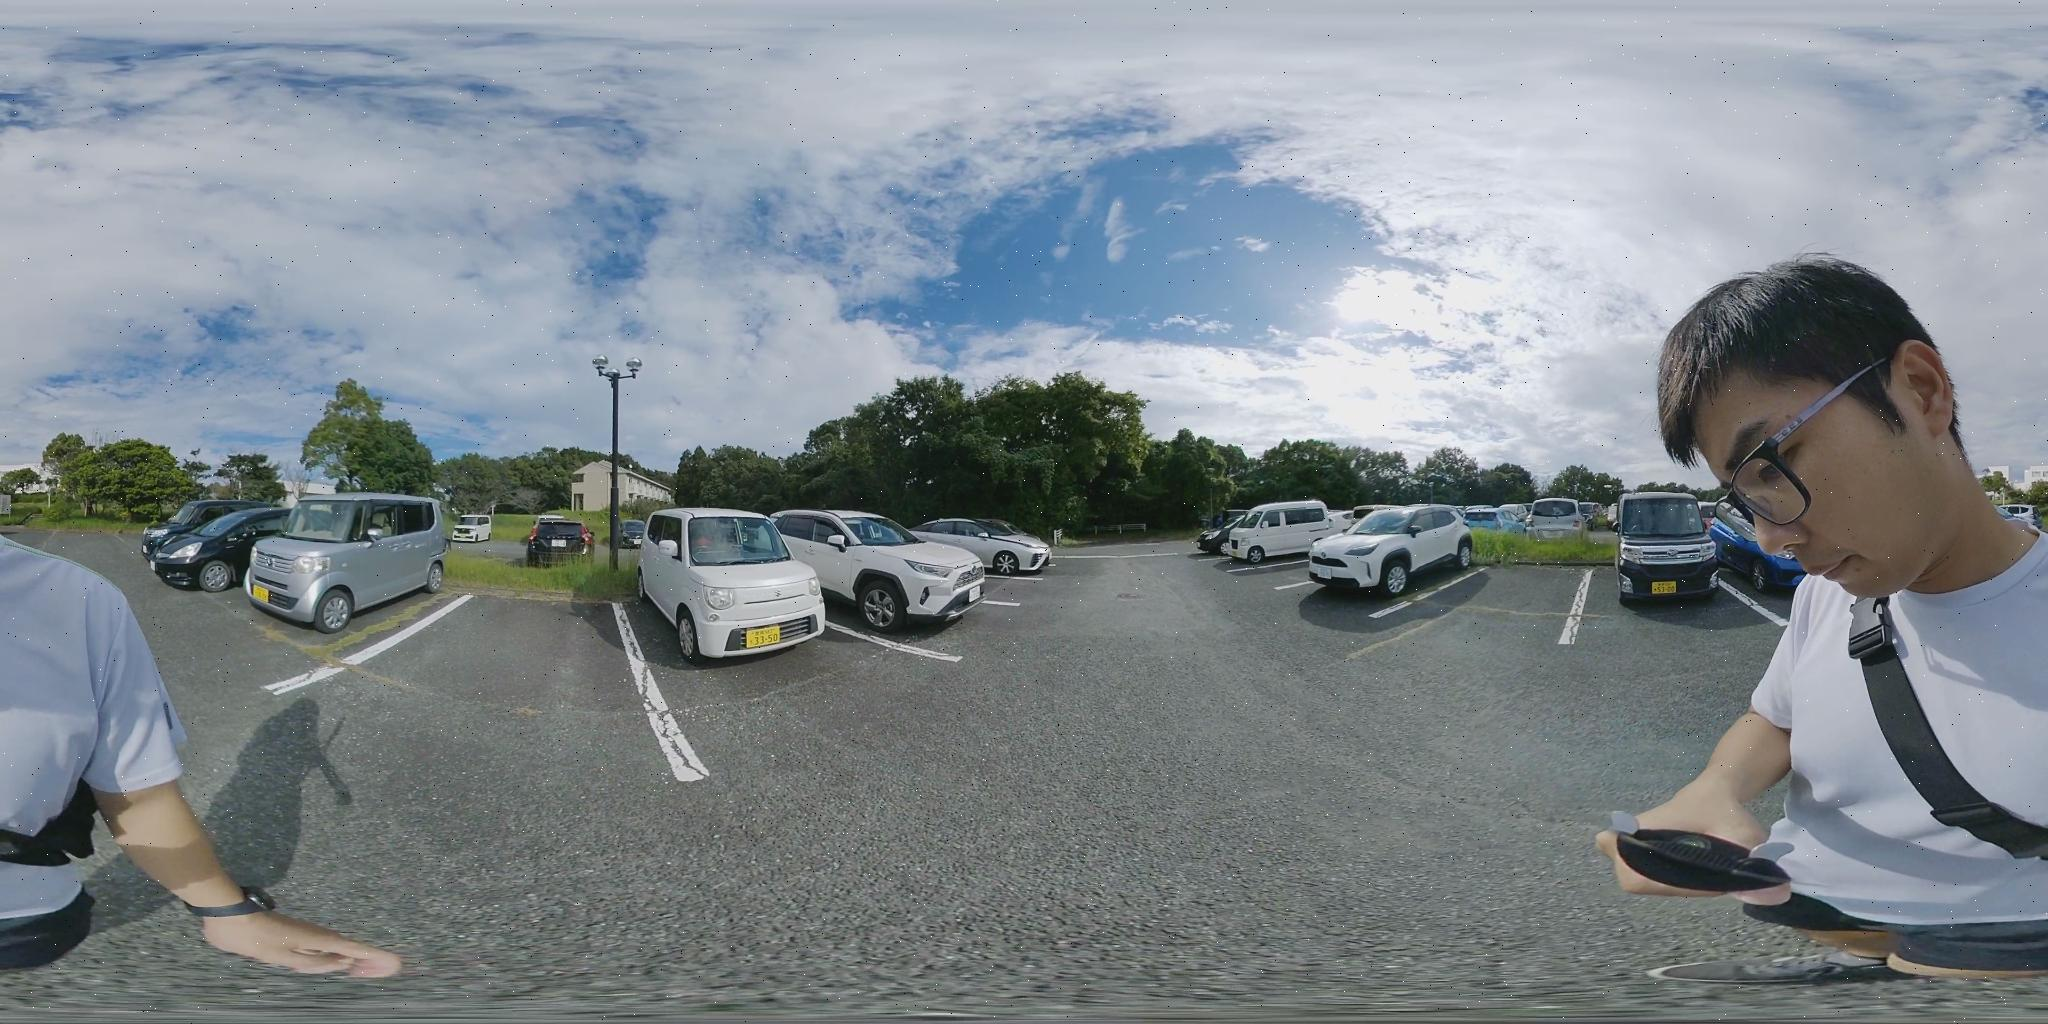car: (637, 509, 828, 665), (780, 512, 994, 633), (249, 495, 444, 616), (1616, 492, 1814, 600), (1305, 507, 1475, 593), (148, 498, 291, 590), (1200, 502, 1348, 564), (912, 519, 1058, 575), (455, 512, 498, 541)
